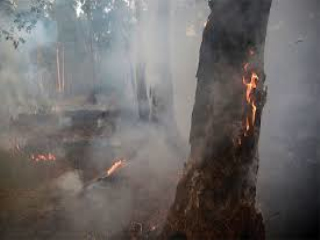fire: (237, 69, 260, 133), (103, 159, 124, 175)
smoke: (108, 39, 190, 192)
